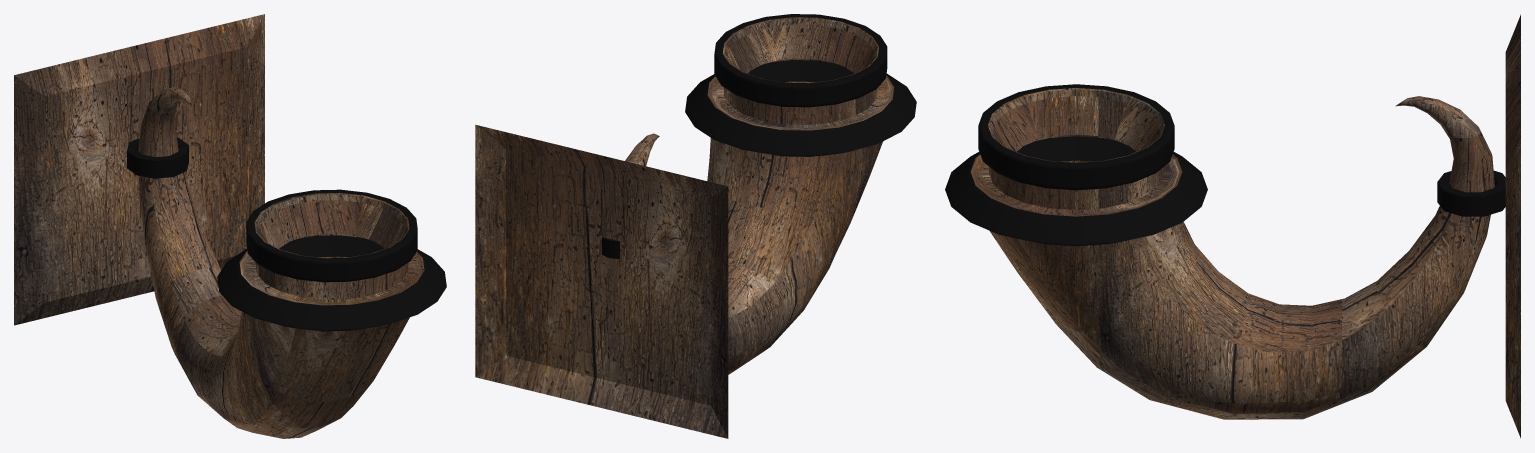
Rendered from Torch.FBX.
The picture shows the model from 3 angles, left to right: view 1: azimuth 30°, elevation 25°; view 2: azimuth 150°, elevation 25°; view 3: azimuth 270°, elevation 25°; orthographic projection. The views are drawn at different scales.
Visible parts, largest first — view 1: Plane001, Cylinder001, Object002, Object001; view 2: Plane001, Cylinder001, Object002; view 3: Cylinder001, Object002, Plane001, Object001.
Boxes of the visible parts, box(x1,y1,x2,y2) form: Plane001: box(14, 14, 264, 325); Cylinder001: box(138, 87, 409, 438); Object002: box(217, 189, 446, 331); Object001: box(127, 137, 188, 178); Plane001: box(475, 124, 728, 438); Cylinder001: box(625, 18, 882, 374); Object002: box(685, 14, 916, 156); Cylinder001: box(989, 89, 1494, 419); Object002: box(945, 84, 1207, 246); Plane001: box(1505, 14, 1520, 438); Object001: box(1437, 170, 1505, 216).
Bounding box in the file's own units: 74.48 × 82.63 × 130.
Materials: 2 (1 with a texture image).
